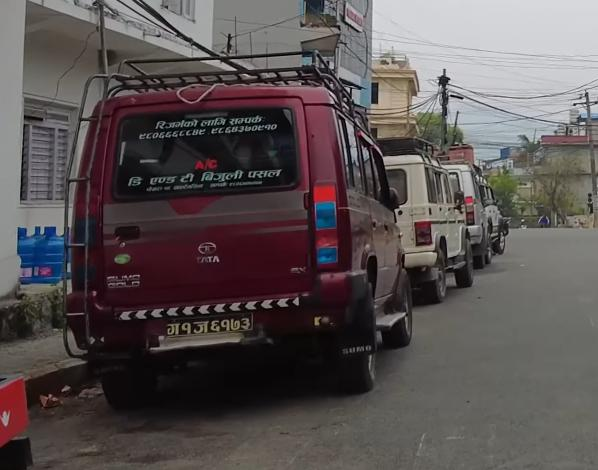SUV: (54, 52, 421, 402), (363, 134, 478, 299)
